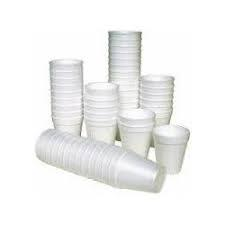Plastic cup: (21, 17, 216, 213)
